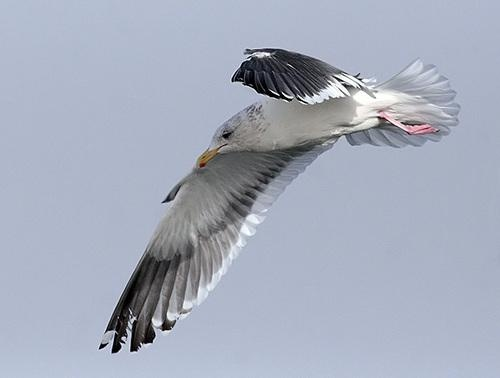bird: (96, 43, 461, 353)
